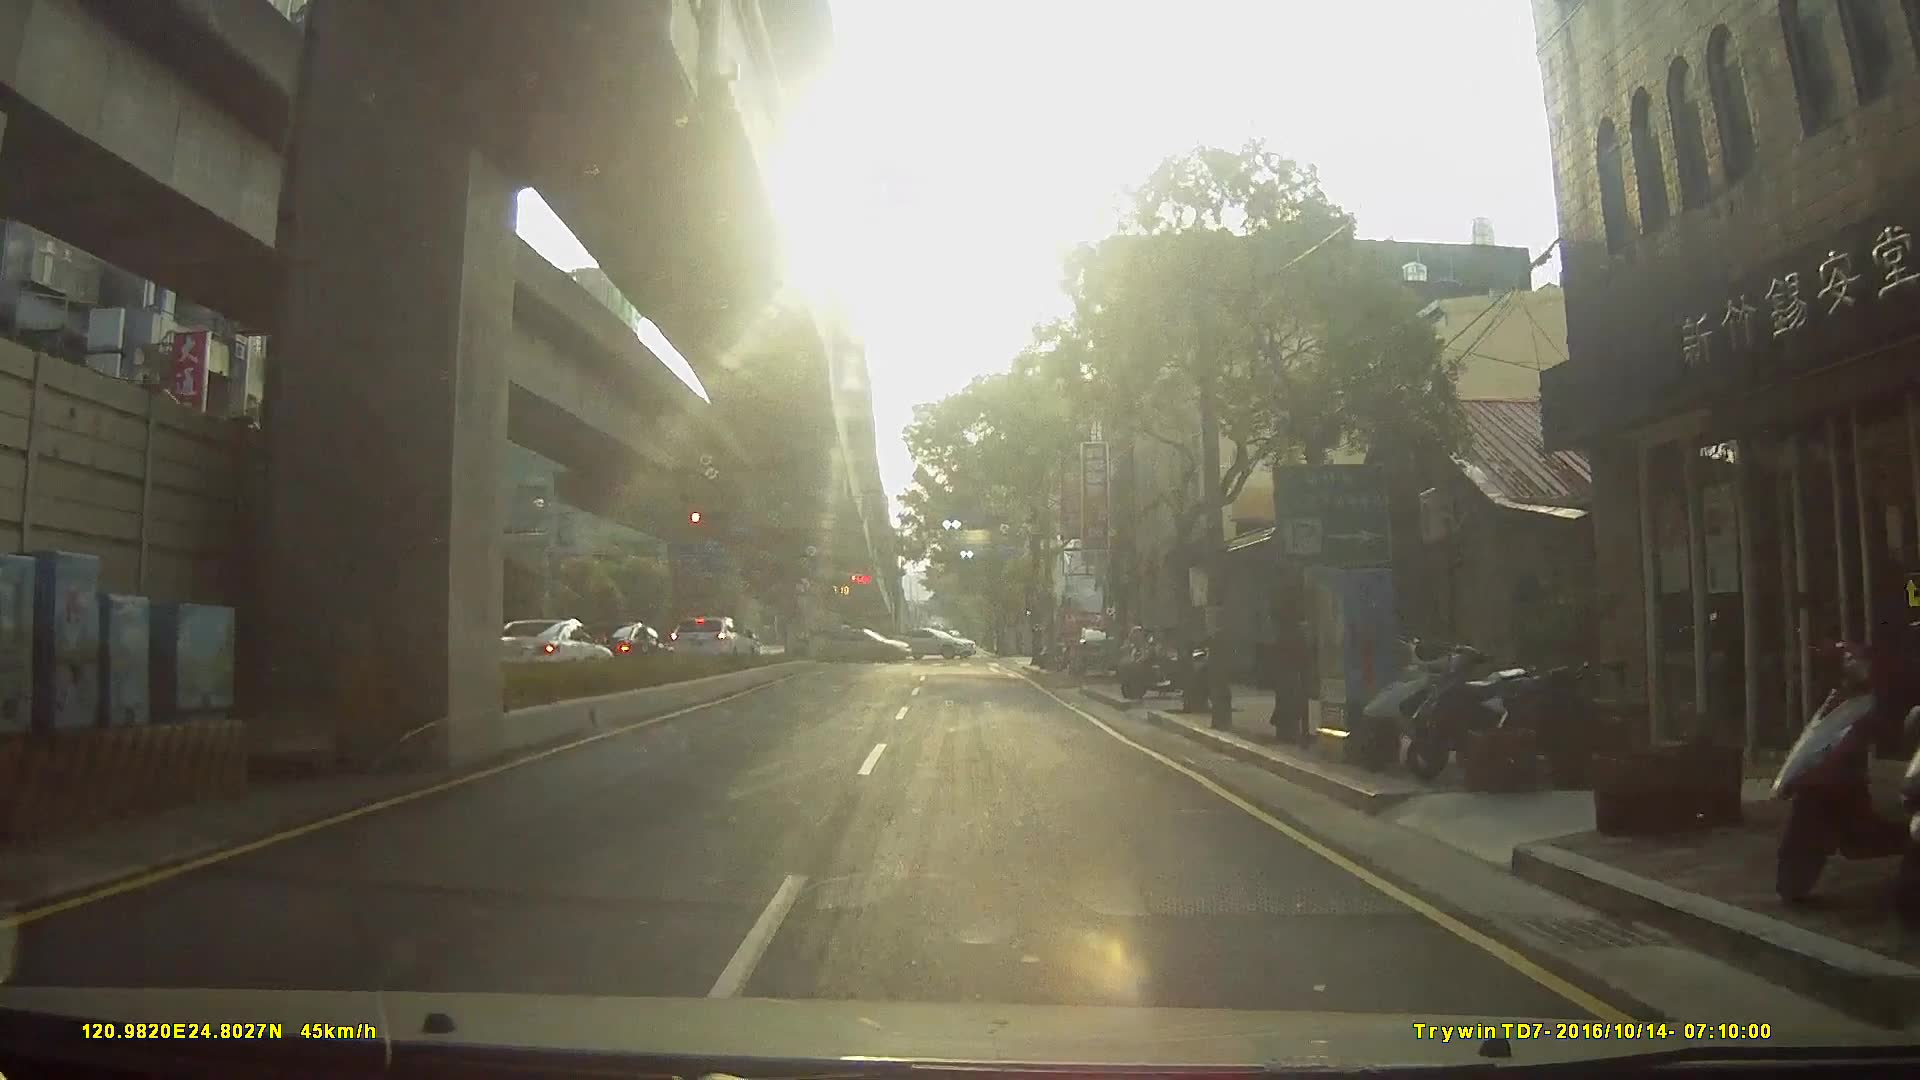vehicle: (475, 617, 608, 684), (572, 621, 673, 675), (663, 615, 757, 665), (814, 626, 916, 665), (1065, 620, 1127, 675), (891, 626, 980, 659)
